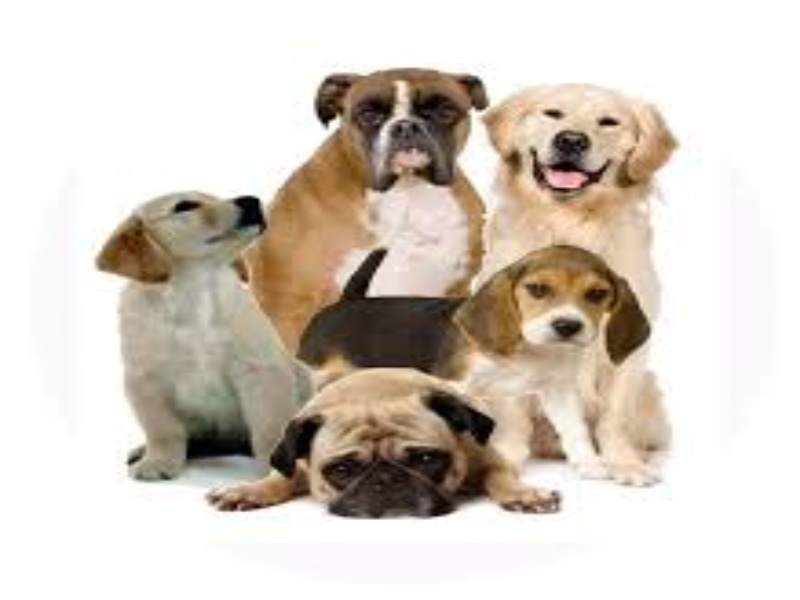dog: (80, 65, 709, 522)
